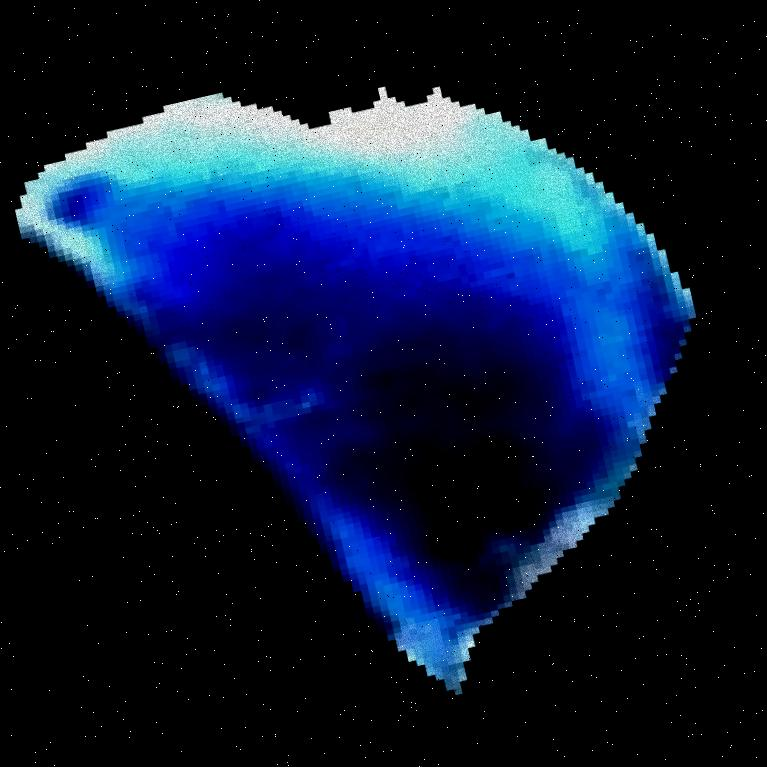Capacete: (267, 0, 610, 766)
